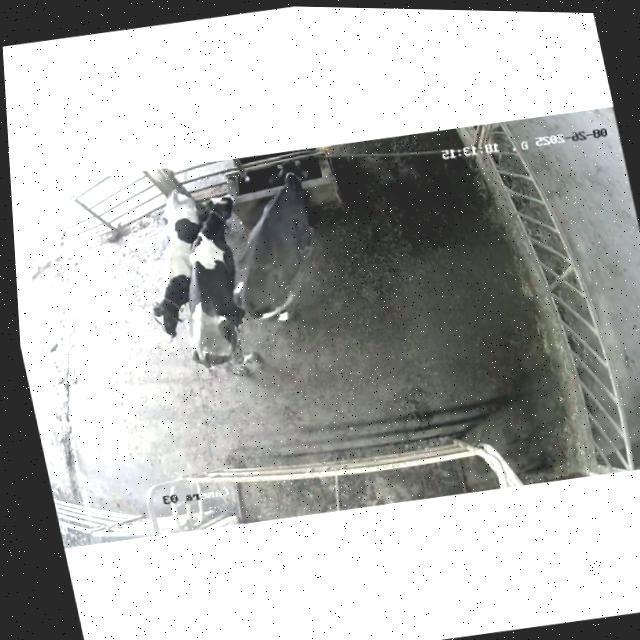drink: (256, 152, 326, 220)
stand: (153, 187, 275, 385), (117, 185, 226, 354)
